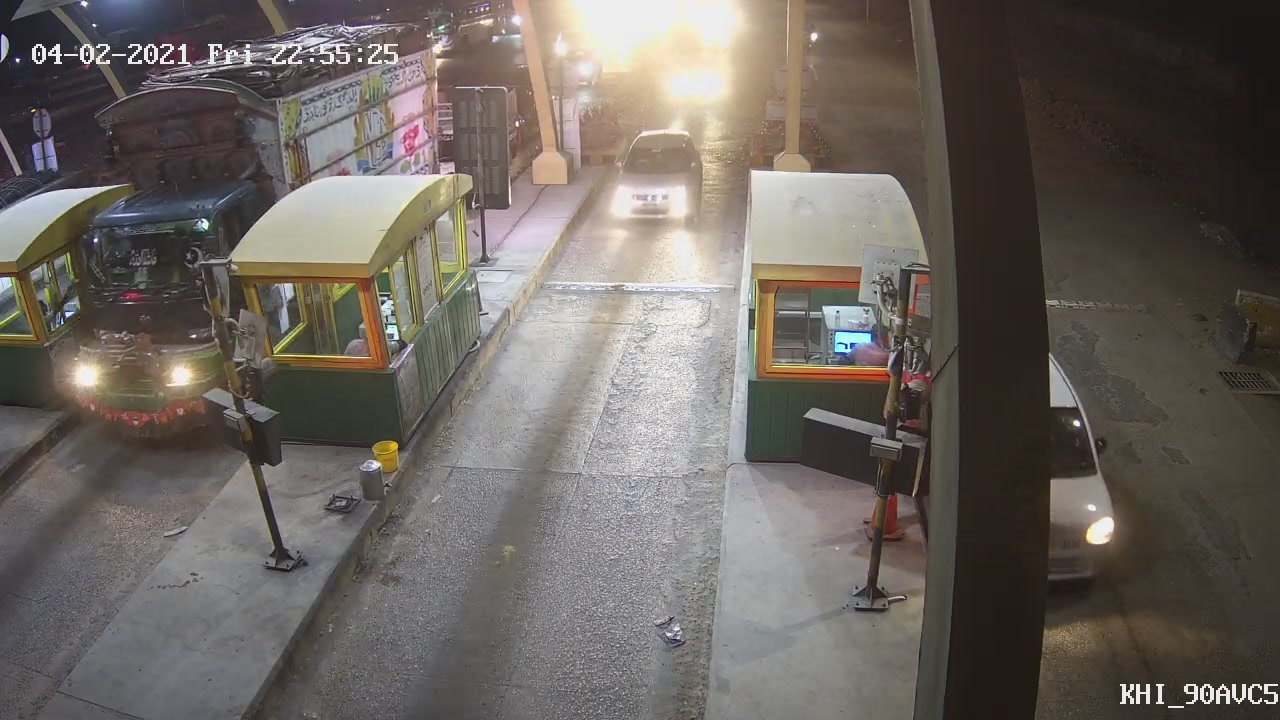F1: (607, 124, 707, 226)
